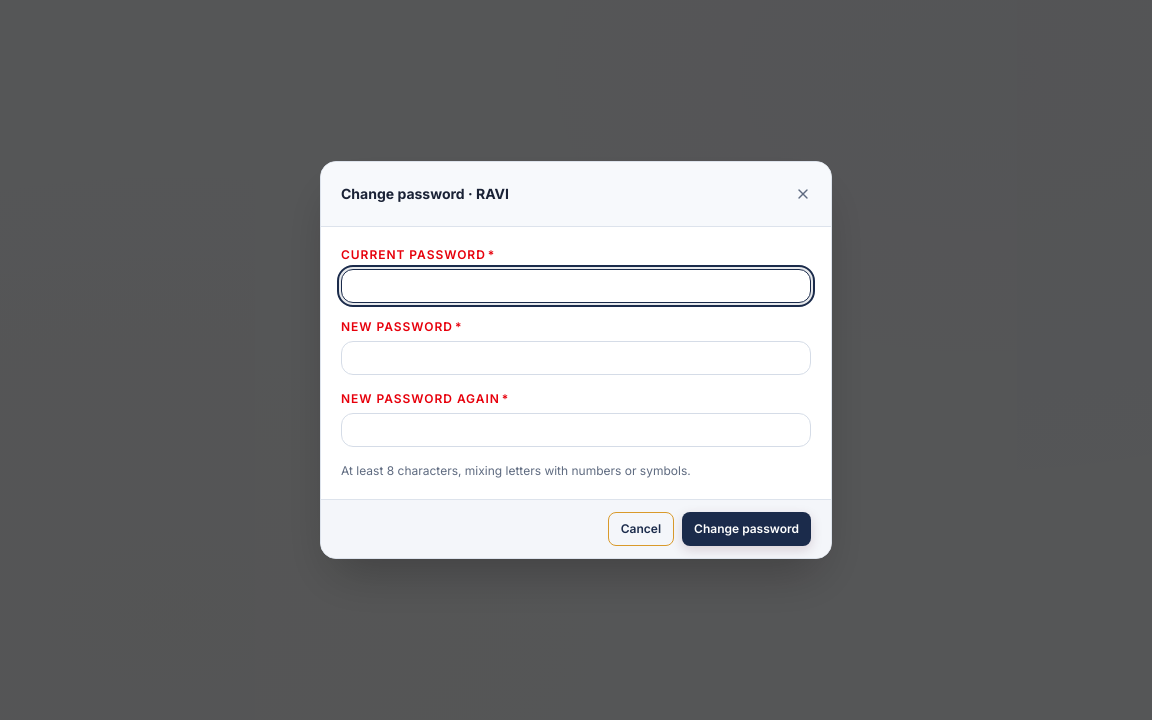
Scenario: ChangePasswordDialog › catches two new passwords that differ
Type "ravi" into the password field labelled "Current password*".
click(576, 286); type("ravi")  # box [341,269,811,303]
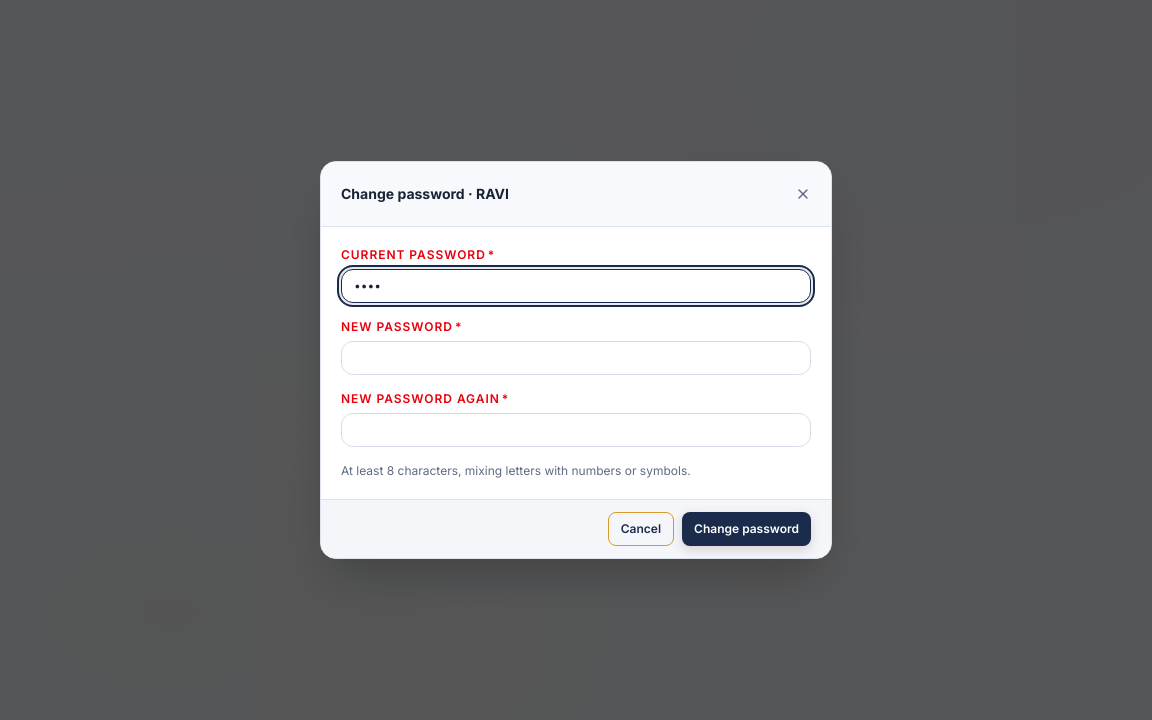
Type "Counter#77" into the password field labelled "New password*".
click(576, 358); type("Counter#77")  # box [341,341,811,375]
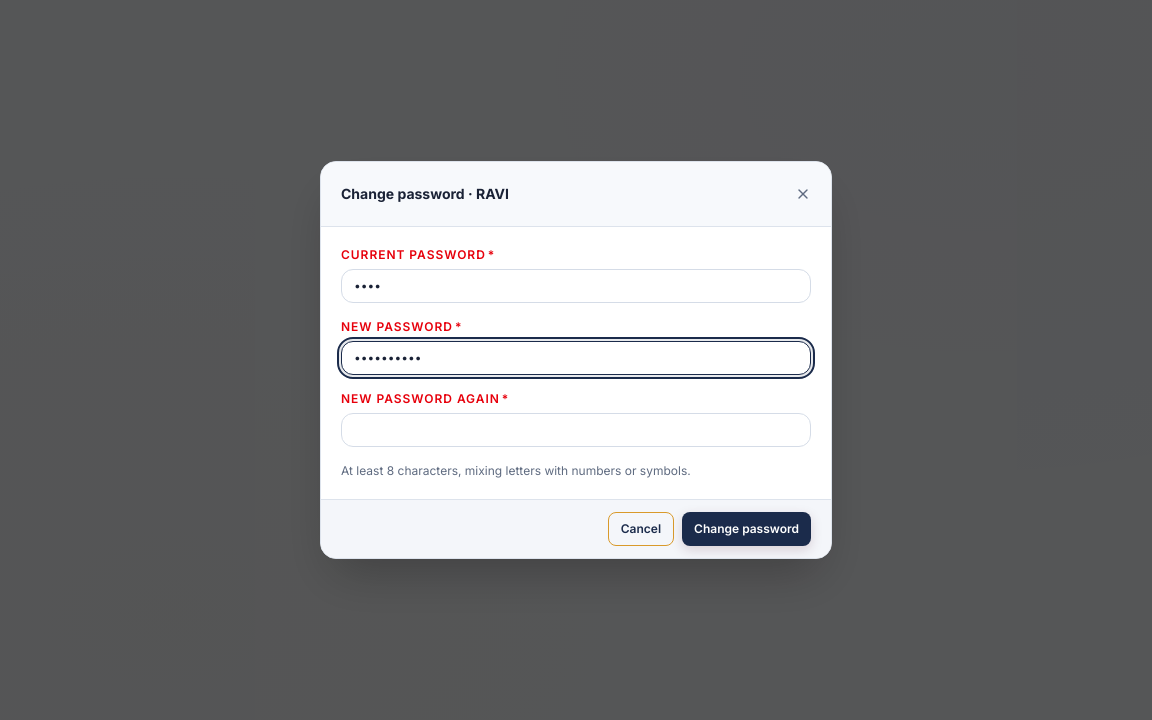
Type "Counter#78" into the password field labelled "New password again*".
click(576, 430); type("Counter#78")  # box [341,413,811,447]
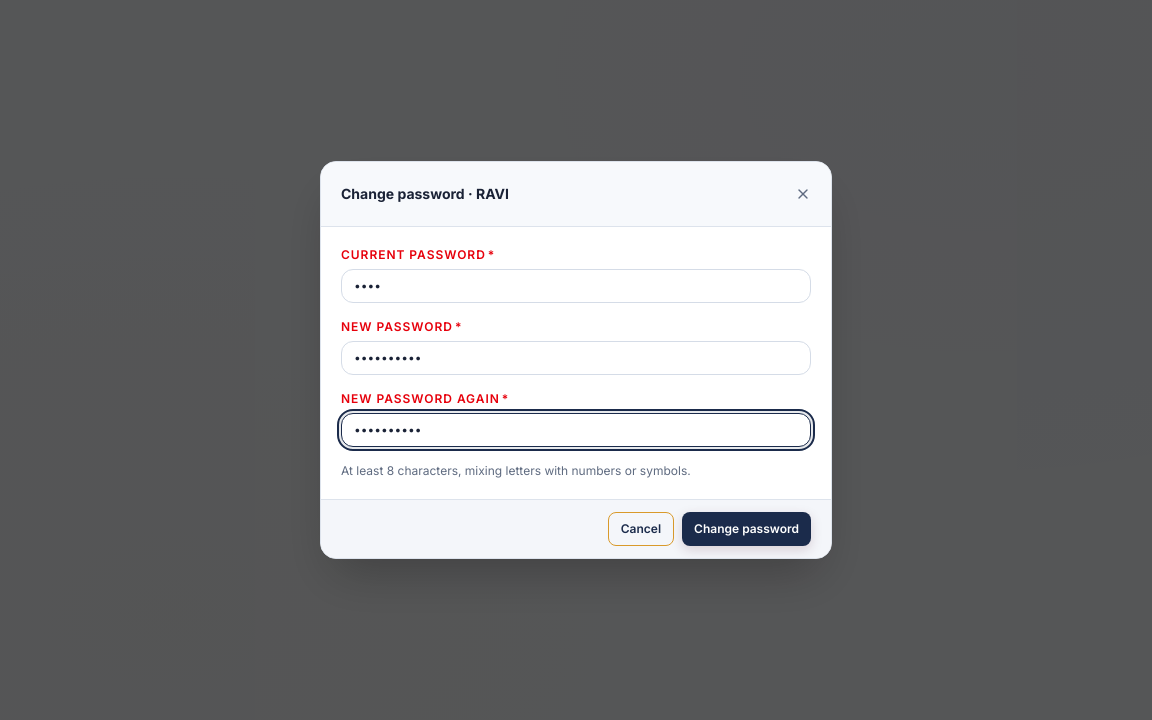
Click the button "Change password".
click(747, 529)  # box [682,512,811,546]
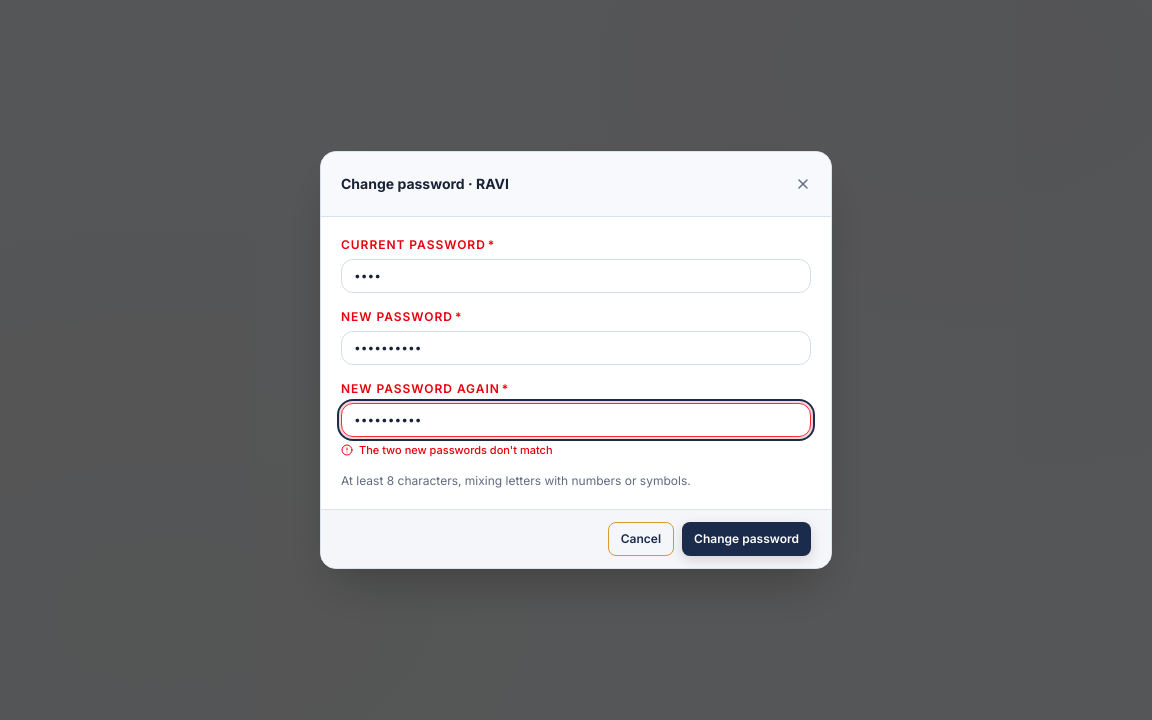
Expected: the text "The two new passwords don't match" is shown, [359,443,553,457]
